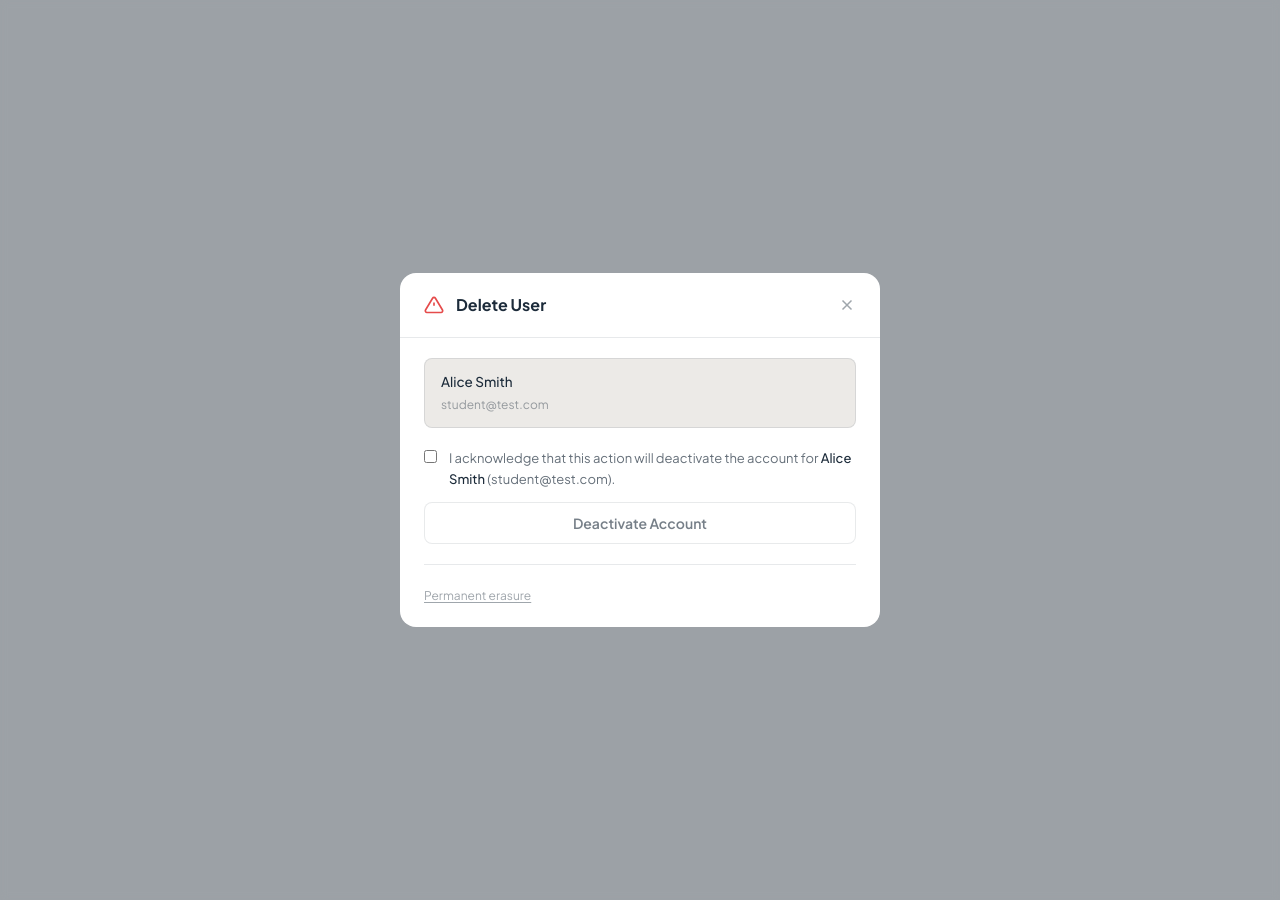
Test: DeleteUserModal › shows error when softDeleteUser returns failure
Click the checkbox.
click(430, 456)  # box [424, 450, 437, 463]
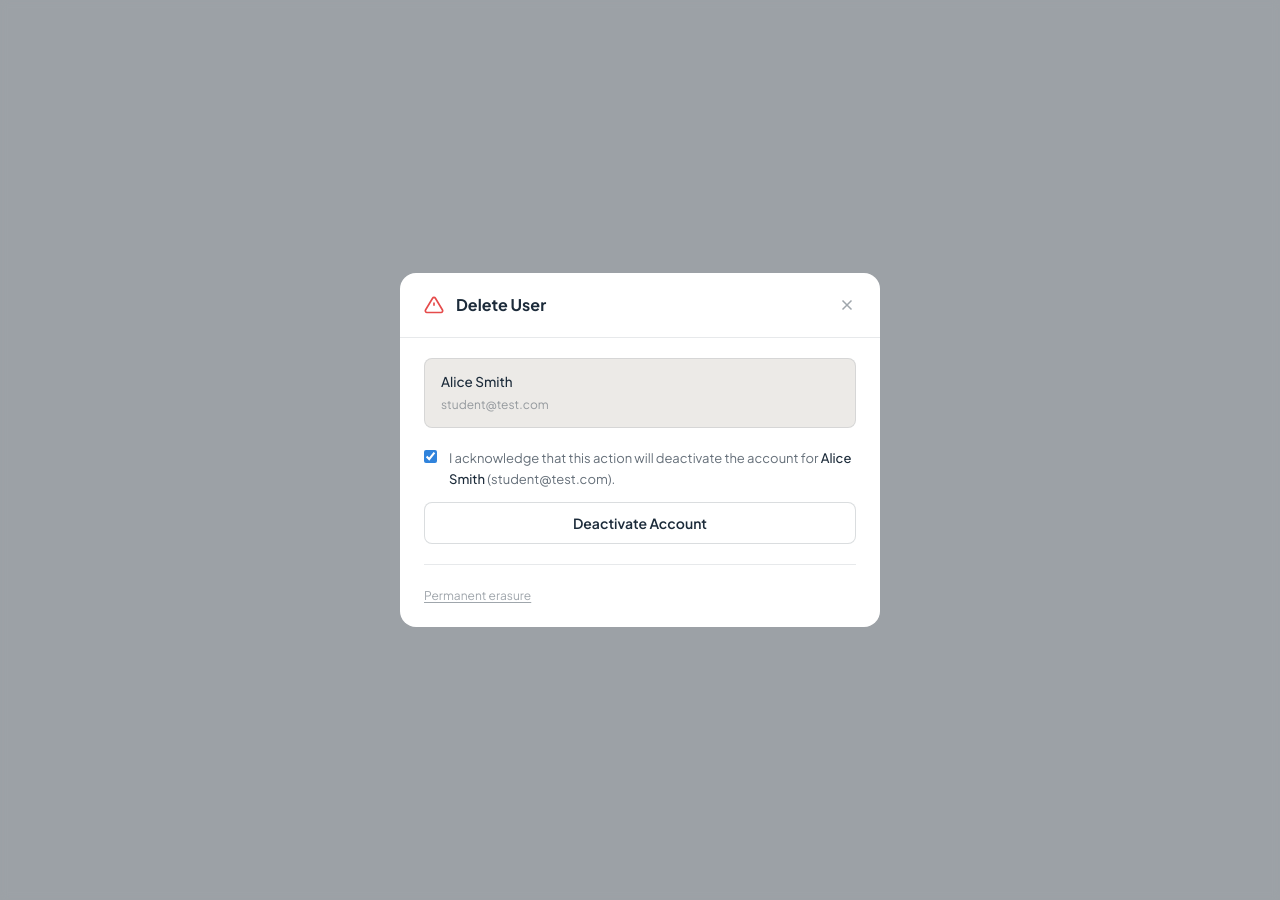
Click the button "Deactivate Account".
click(640, 523)  # box [424, 502, 856, 544]
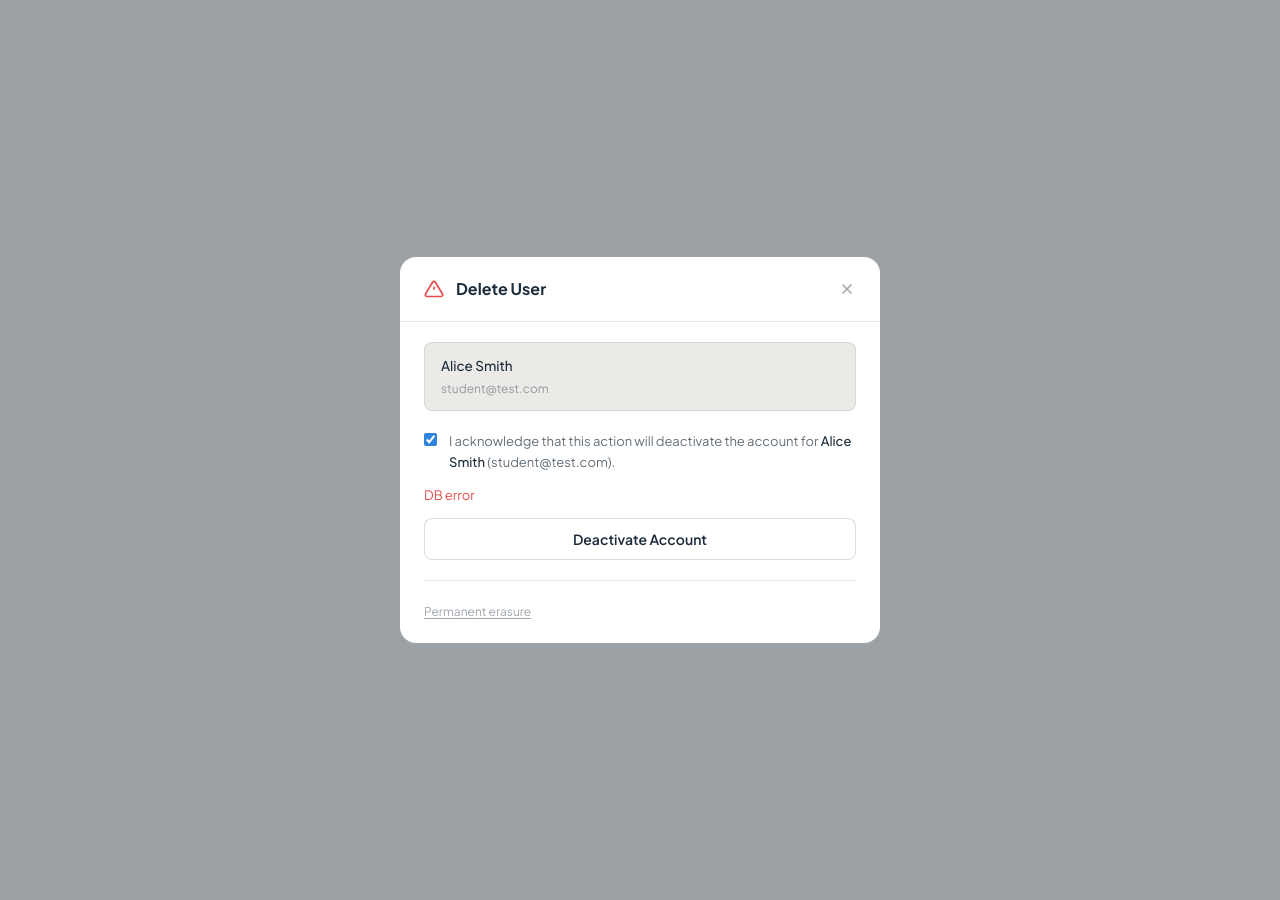
Now the text "DB error" is shown, box [424, 487, 475, 503]
